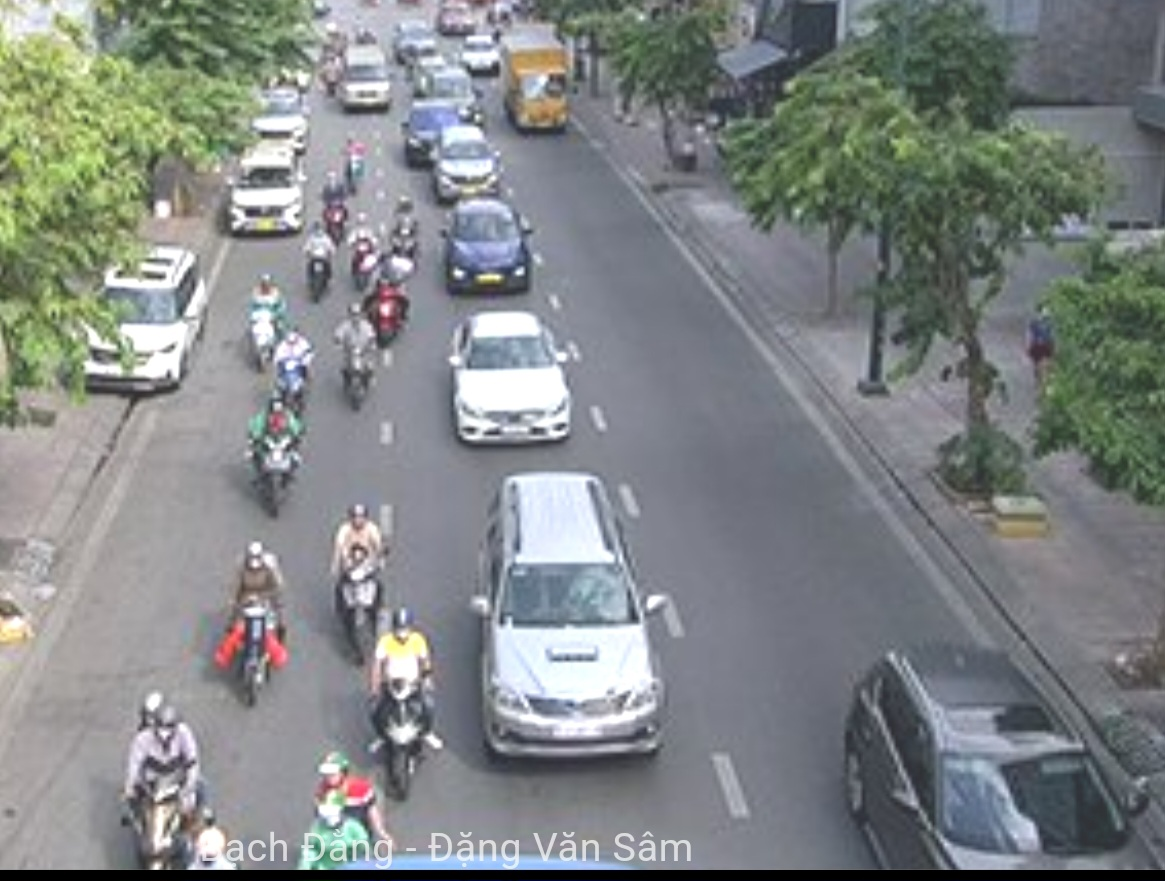car: (840, 646, 1152, 881), (474, 475, 669, 758), (76, 244, 205, 396), (451, 313, 573, 442), (497, 33, 576, 135), (226, 144, 308, 236), (443, 204, 528, 292), (436, 127, 503, 205), (248, 89, 310, 145), (340, 47, 391, 110), (459, 35, 500, 77)
